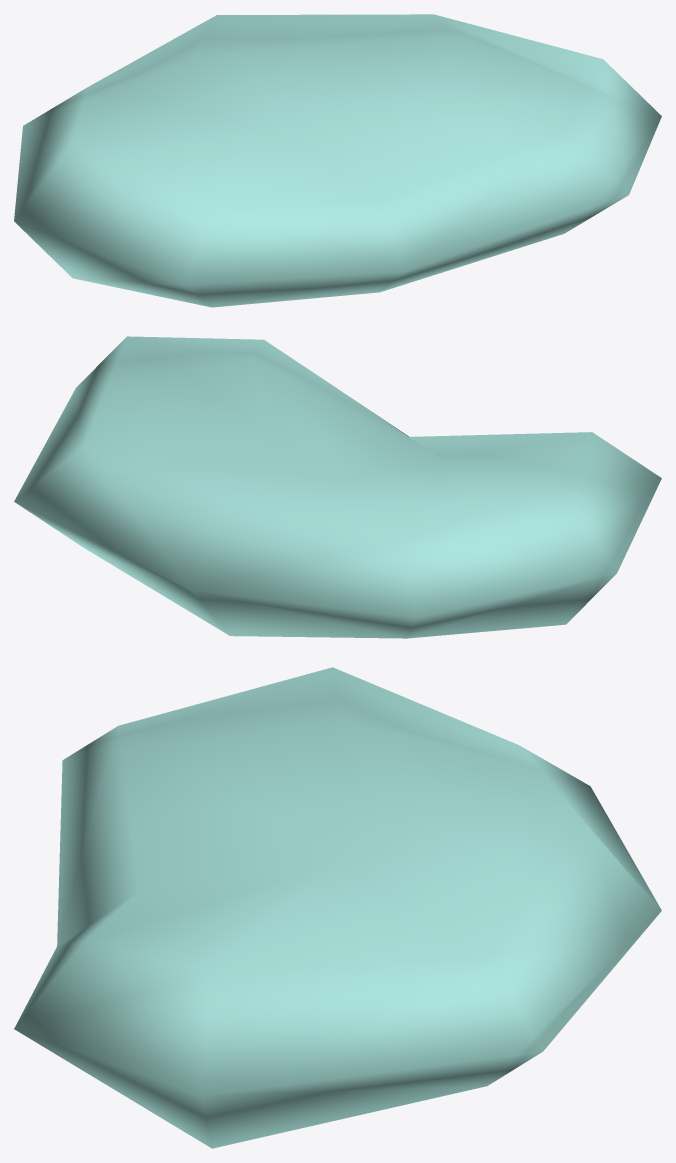
The model's file is tr_seaglass05.fbx.
3 views of the same model, one above another, from view 1: azimuth 30°, elevation 25°; view 2: azimuth 150°, elevation 25°; view 3: azimuth 270°, elevation 25° (orthographic). The views are drawn at different scales.
Parts seen in each view (by area): view 1: tr_seaglass05; view 2: tr_seaglass05; view 3: tr_seaglass05.
Boxes of the visible parts, <box> form: tr_seaglass05: <box>14,14,661,307</box>; tr_seaglass05: <box>14,336,661,638</box>; tr_seaglass05: <box>14,667,661,1148</box>.
Bounding box in the file's own units: 6.67 × 1.79 × 4.86.
